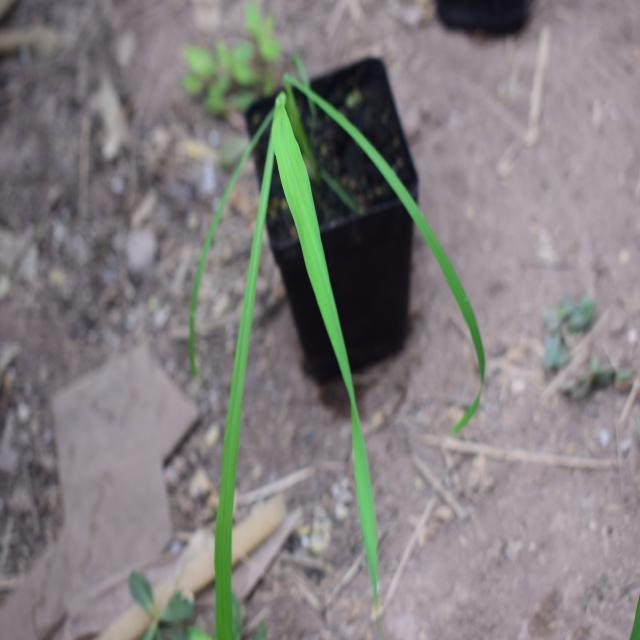barnyard_grass: (186, 59, 429, 514)
